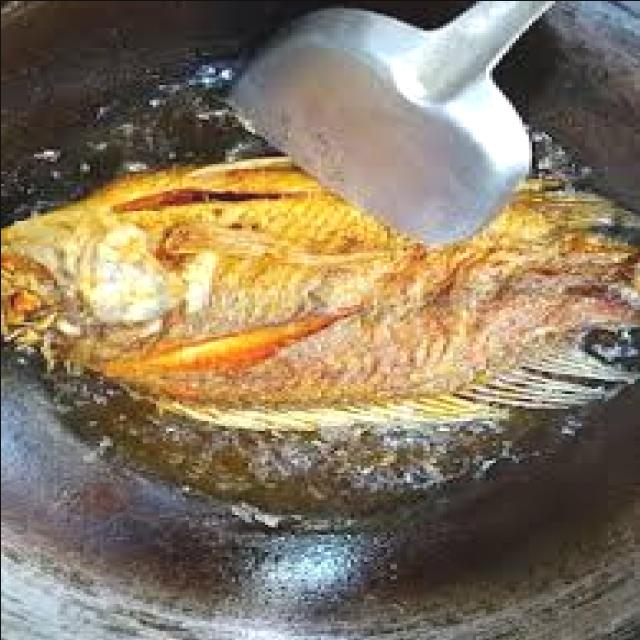ikan goreng: (0, 153, 640, 427)
